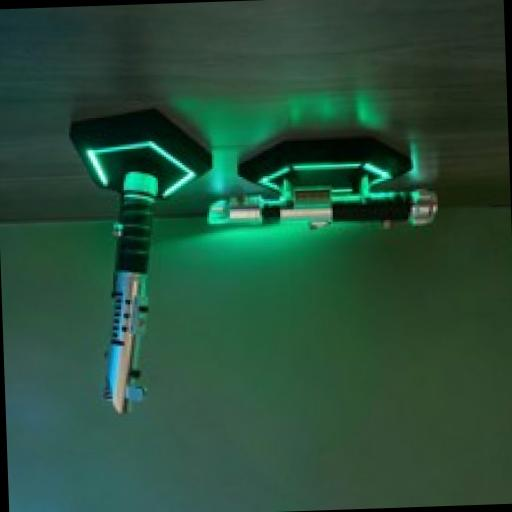lightsaber: (96, 172, 166, 414), (206, 184, 439, 233)
